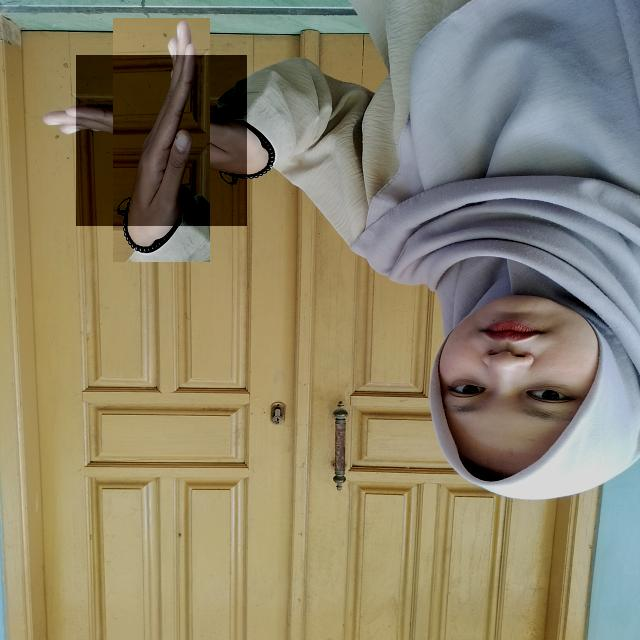adik: (76, 55, 247, 226)
